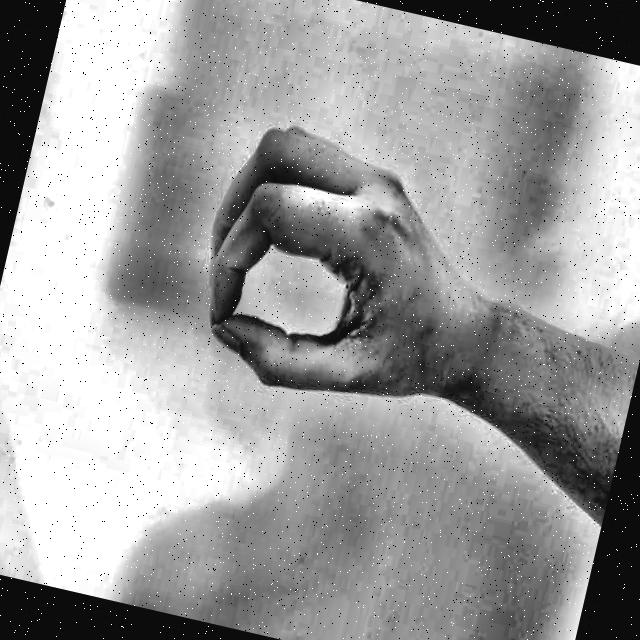O: (143, 70, 530, 464)
